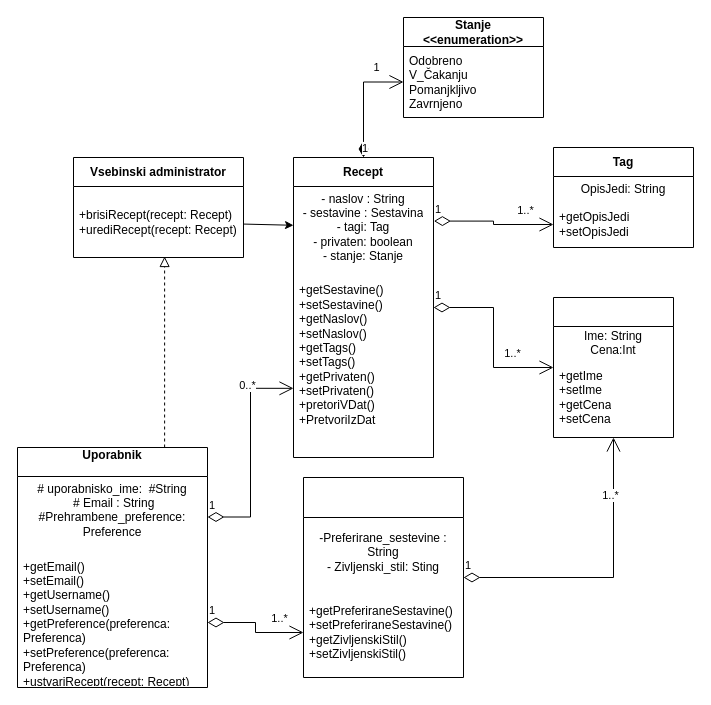
Image size: 711x705. Some labels were removed from this diagram. Here are the shapes that lost their labels. From the top down, the box of each, then its label:
(552, 296, 674, 438): Sestavina
(302, 476, 464, 678): Preferenca
